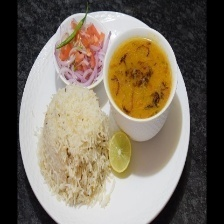rice: (35, 85, 108, 209)
